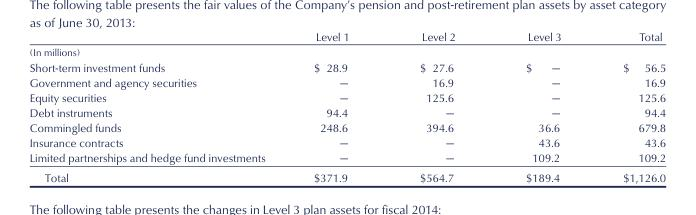table: (28, 29, 665, 184)
table column: (28, 29, 288, 184), (383, 29, 489, 184), (489, 29, 591, 184), (288, 29, 383, 184), (591, 29, 665, 184)
table column header: (28, 29, 665, 59)
table row: (28, 29, 665, 59), (28, 150, 665, 167), (28, 167, 665, 184), (28, 119, 665, 135), (28, 59, 665, 74), (28, 74, 665, 89), (28, 89, 665, 104), (28, 104, 665, 119), (28, 135, 665, 150)
